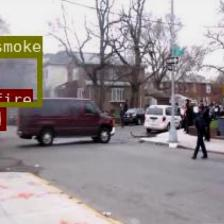fire: (0, 105, 4, 129)
smoke: (0, 53, 41, 106)
